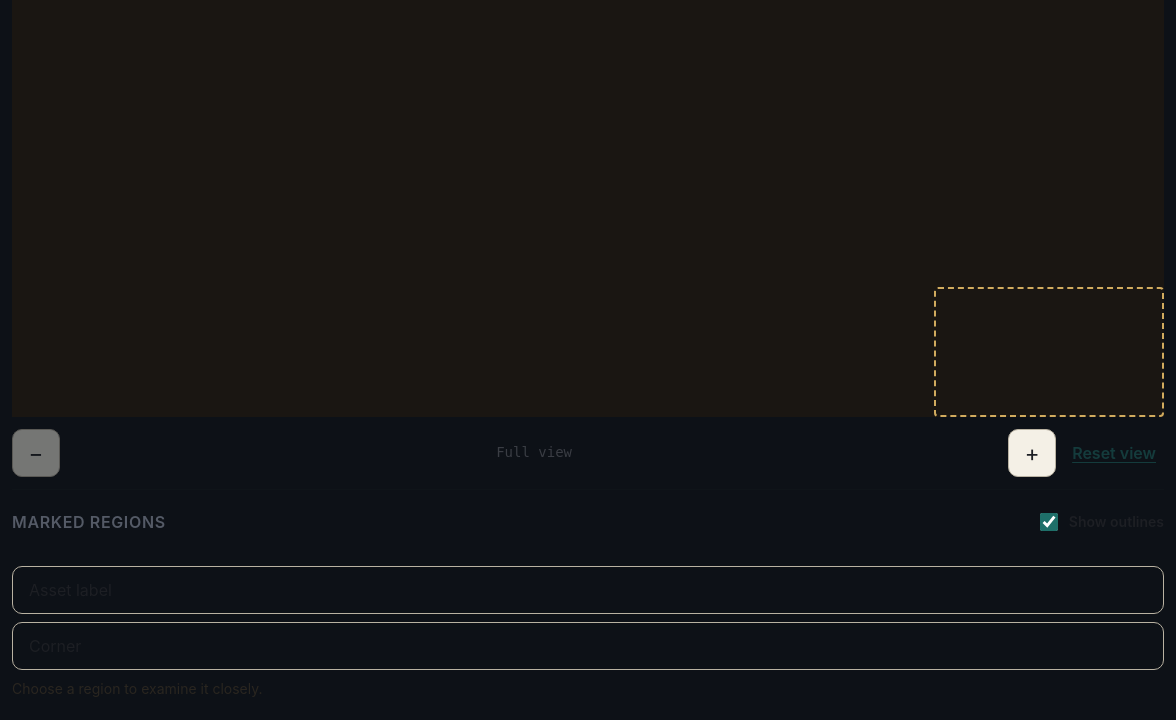
PhotoViewer › examines a region: zooms to it and shows its note
(page scrolled)
Expected: the text "Choose a region to examine it closely." is shown, [12,680,262,697]
What coordinates should you click on to do the following:
click the button "Asset label"
I would click on:
 (70, 590)
Its box is [12,566,1164,614].
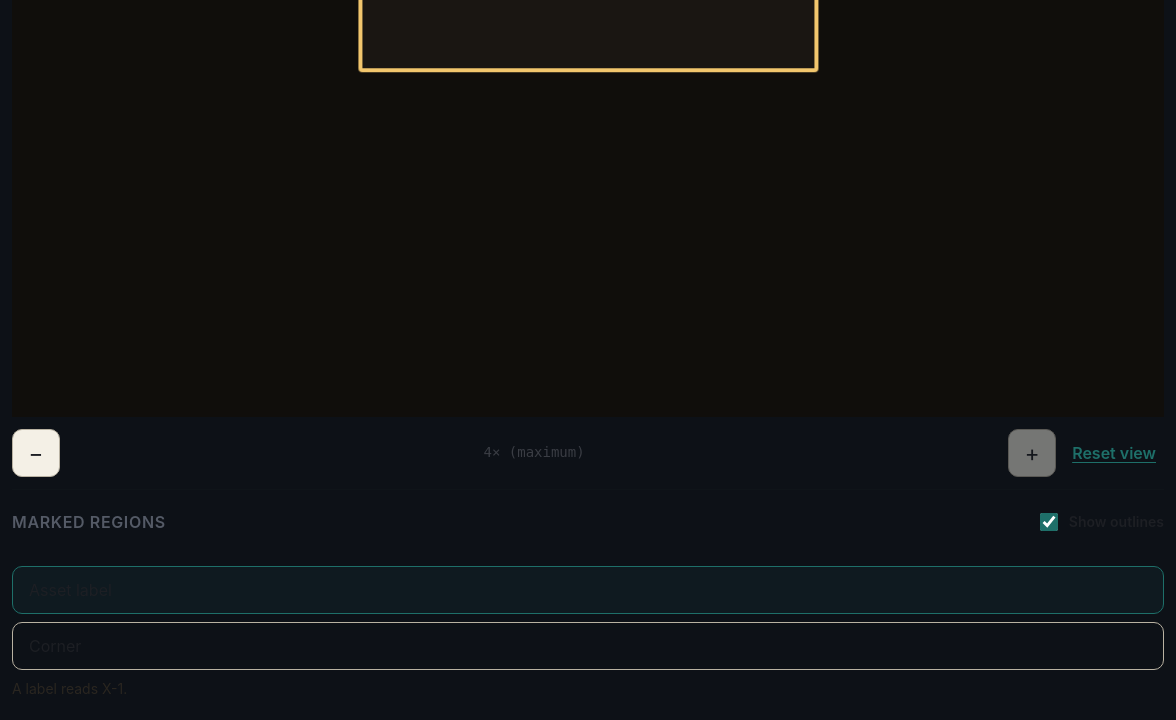
Result: the text "A label reads X-1." is shown at [12,680,127,697]
